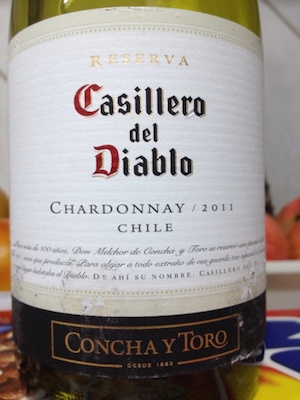casillero del diablo chardonnay: (1, 13, 277, 384)
